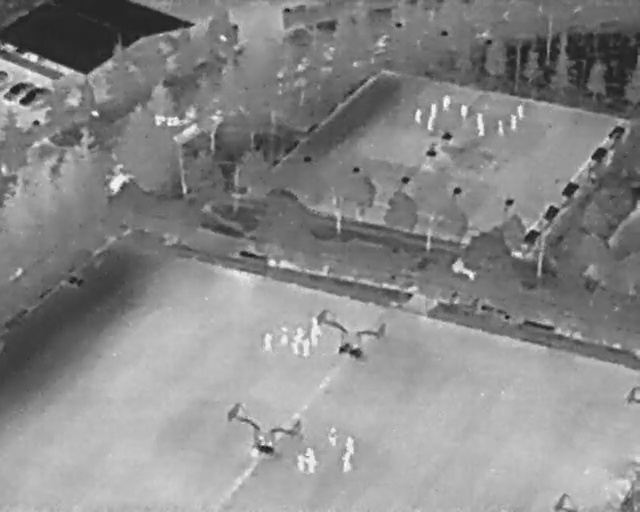Car: (14, 77, 56, 113), (0, 74, 38, 106), (0, 68, 10, 84)
Person: (262, 332, 274, 354), (340, 453, 352, 473), (344, 435, 356, 454), (279, 326, 289, 347), (308, 330, 319, 348), (495, 118, 505, 137), (329, 427, 339, 446), (442, 94, 452, 112), (310, 317, 321, 333), (305, 446, 316, 462), (307, 458, 317, 475), (476, 123, 487, 137), (296, 454, 305, 471), (516, 103, 524, 122), (295, 326, 305, 341), (302, 339, 310, 357), (459, 104, 468, 119), (429, 103, 438, 118), (510, 112, 517, 131), (414, 109, 422, 125), (426, 117, 434, 132), (475, 112, 483, 126), (292, 340, 298, 355)
